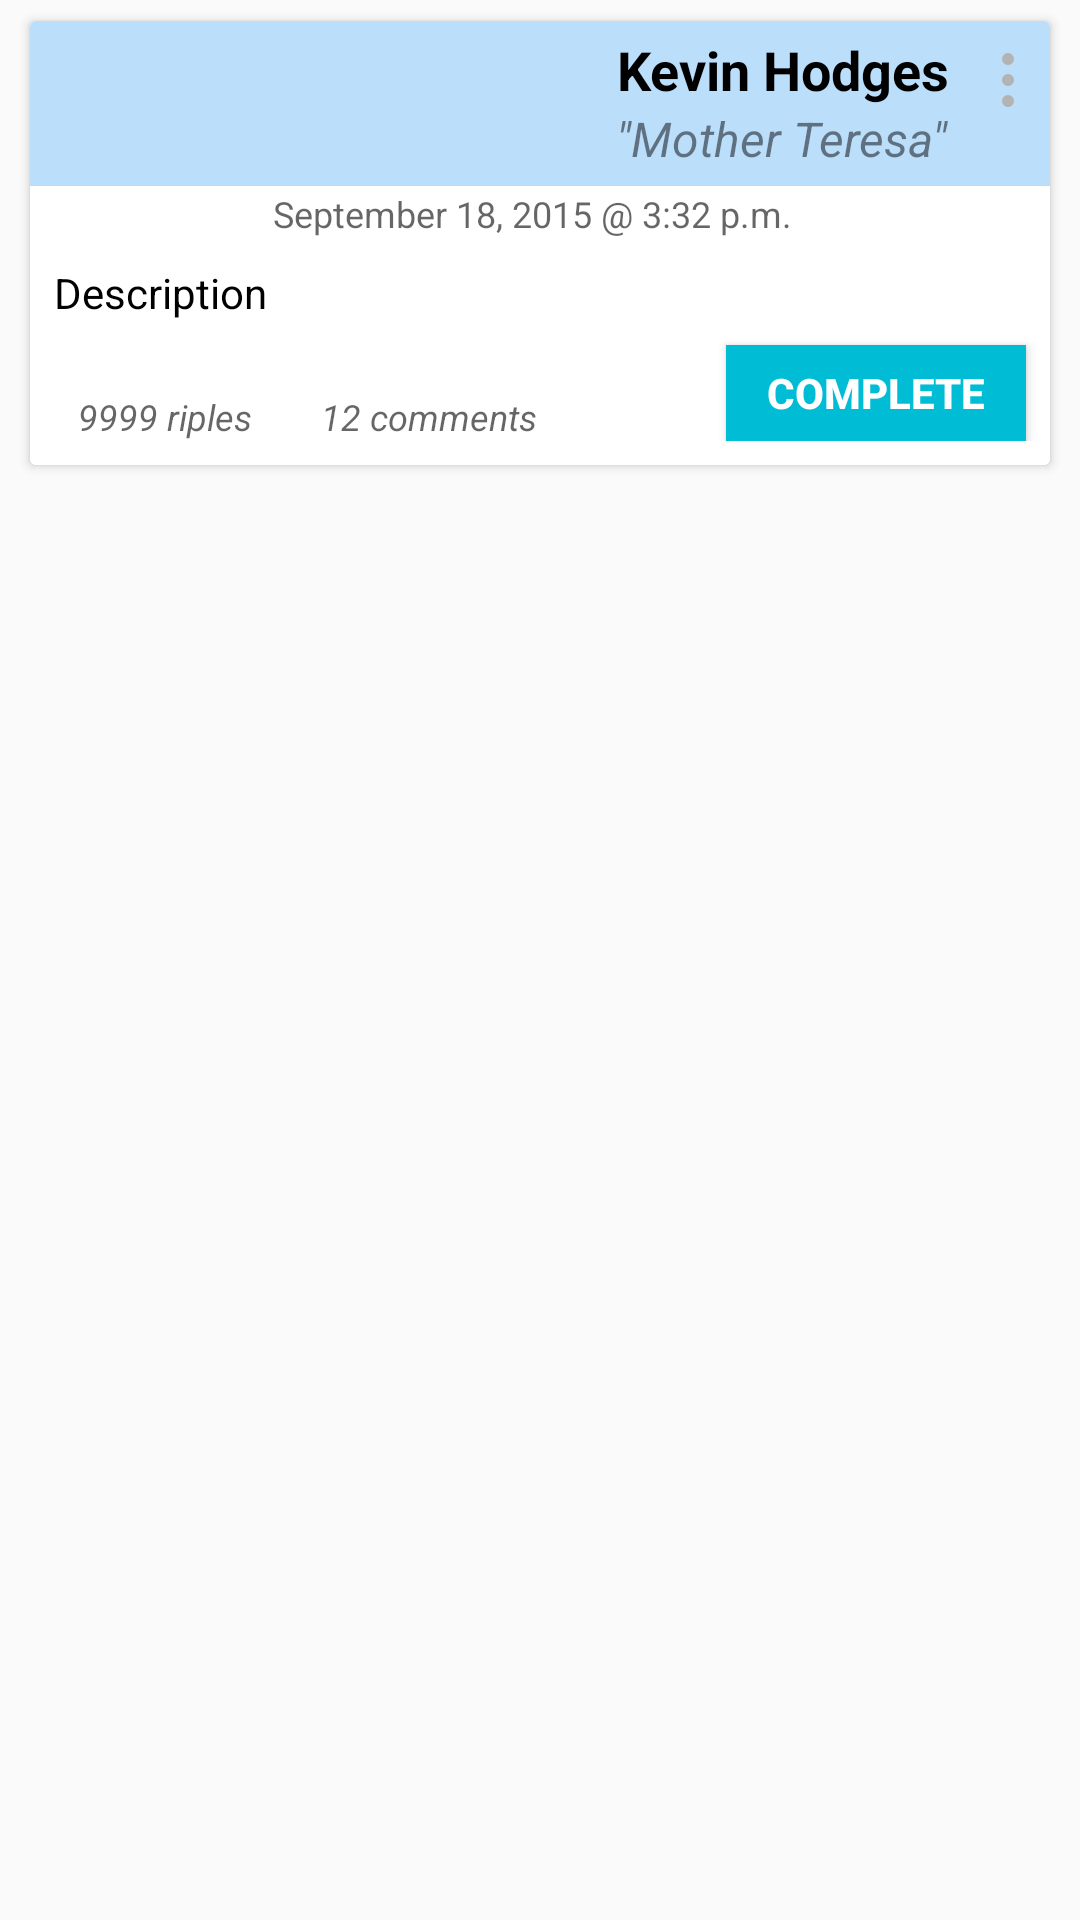

Named icons in this screenshot (1080px x 1920px) and their centers, (x=x, y=y):
menu: (x=1008, y=80)
